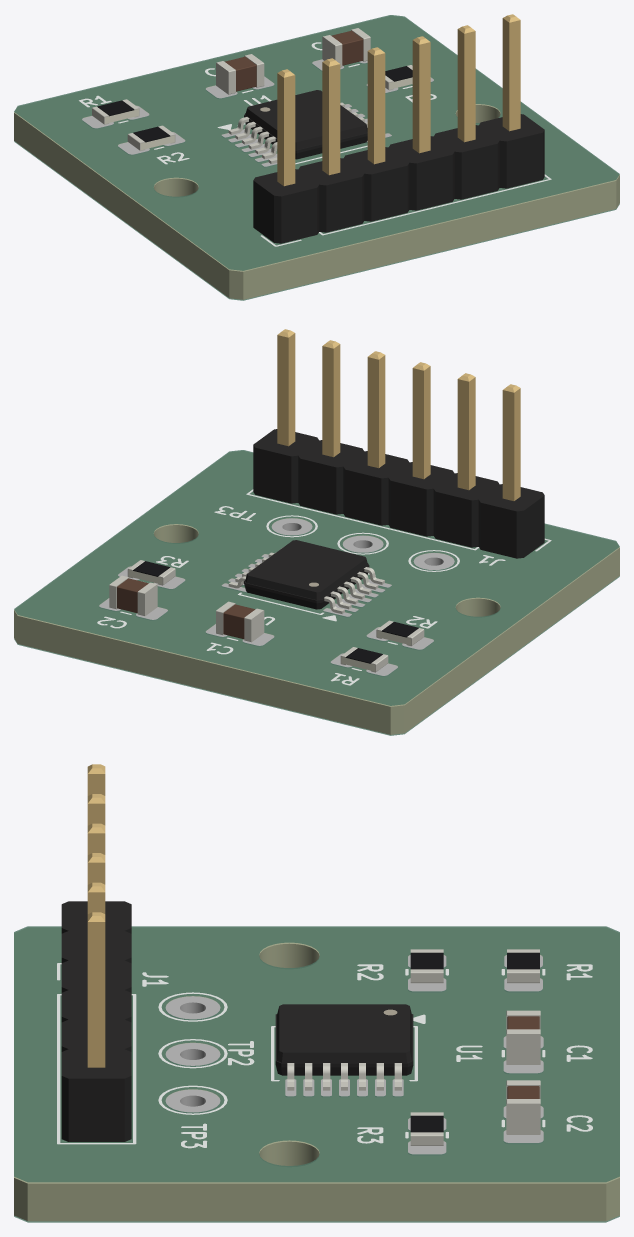
The model's file is board.glb.
3 renders of one model, top to bottom at view 1: azimuth 30°, elevation 25°; view 2: azimuth 150°, elevation 25°; view 3: azimuth 270°, elevation 25°, orthographic. The views are drawn at different scales.
Parts seen in each view (by area): view 1: =>[0:1:1:14], =>[0:1:1:12], =>[0:1:1:9], =>[0:1:1:3], =>[0:1:1:7] (×2), =>[0:1:1:5] (×3), =>[0:1:1:10], =>[0:1:1:11], =>[0:1:1:13]; view 2: =>[0:1:1:14], =>[0:1:1:12], =>[0:1:1:9], =>[0:1:1:3], =>[0:1:1:10], =>[0:1:1:7] (×2), =>[0:1:1:11], =>[0:1:1:5] (×3), =>[0:1:1:13]; view 3: =>[0:1:1:14], =>[0:1:1:12], =>[0:1:1:9], =>[0:1:1:3], =>[0:1:1:10], =>[0:1:1:11], =>[0:1:1:7] (×2), =>[0:1:1:5] (×3), =>[0:1:1:13].
Boxes of the visible parts, left/top/right/bottom form: =>[0:1:1:14]: left=14, top=16, right=619, bottom=299; =>[0:1:1:12]: left=14, top=15, right=619, bottom=270; =>[0:1:1:9]: left=253, top=14, right=544, bottom=243; =>[0:1:1:3]: left=228, top=90, right=367, bottom=163; =>[0:1:1:7] (×2): left=216, top=28, right=370, bottom=94; =>[0:1:1:5] (×3): left=92, top=65, right=412, bottom=151; =>[0:1:1:10]: left=82, top=59, right=433, bottom=166; =>[0:1:1:11]: left=79, top=42, right=551, bottom=246; =>[0:1:1:13]: left=14, top=141, right=619, bottom=300; =>[0:1:1:14]: left=14, top=451, right=619, bottom=734; =>[0:1:1:12]: left=14, top=450, right=619, bottom=705; =>[0:1:1:9]: left=253, top=329, right=544, bottom=558; =>[0:1:1:3]: left=228, top=540, right=384, bottom=613; =>[0:1:1:10]: left=99, top=518, right=454, bottom=676; =>[0:1:1:7] (×2): left=109, top=575, right=264, bottom=642; =>[0:1:1:11]: left=97, top=489, right=551, bottom=685; =>[0:1:1:5] (×3): left=127, top=560, right=424, bottom=672; =>[0:1:1:13]: left=14, top=576, right=619, bottom=735; =>[0:1:1:14]: left=14, top=928, right=619, bottom=1221; =>[0:1:1:12]: left=14, top=926, right=619, bottom=1182; =>[0:1:1:9]: left=61, top=764, right=131, bottom=1141; =>[0:1:1:3]: left=275, top=1004, right=413, bottom=1090; =>[0:1:1:10]: left=165, top=955, right=543, bottom=1154; =>[0:1:1:11]: left=57, top=963, right=592, bottom=1148; =>[0:1:1:7] (×2): left=506, top=1010, right=540, bottom=1134; =>[0:1:1:5] (×3): left=410, top=949, right=539, bottom=1145; =>[0:1:1:13]: left=14, top=1215, right=619, bottom=1222.
Bounding box in the file's own units: 0.022 × 0.0115 × 0.022.
